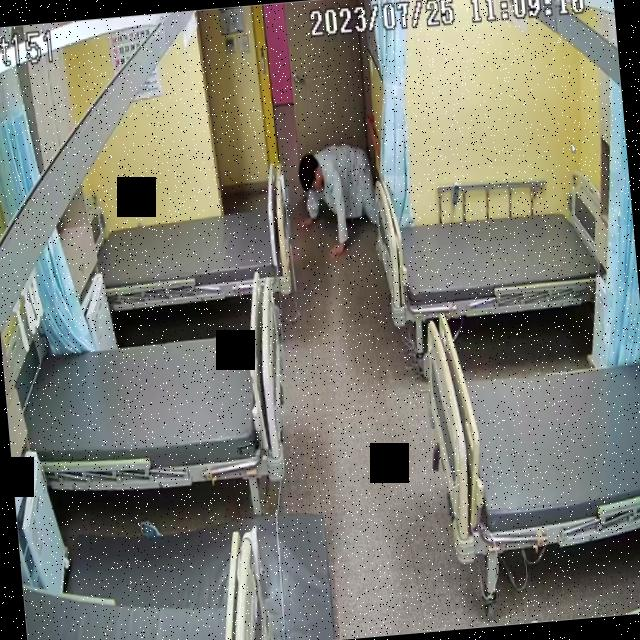bed: (419, 296, 640, 559), (16, 322, 290, 496), (372, 188, 616, 326), (95, 196, 292, 310)
fall: (289, 146, 378, 258)
patient: (287, 143, 380, 254)
